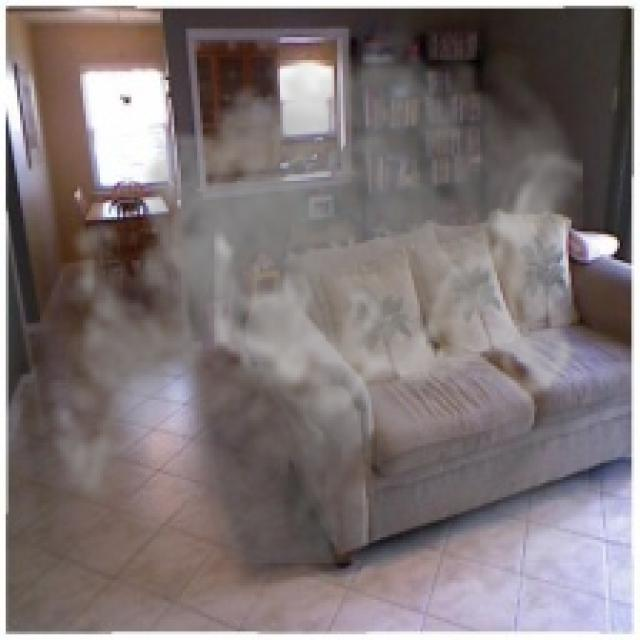smoke: (34, 8, 589, 563)
